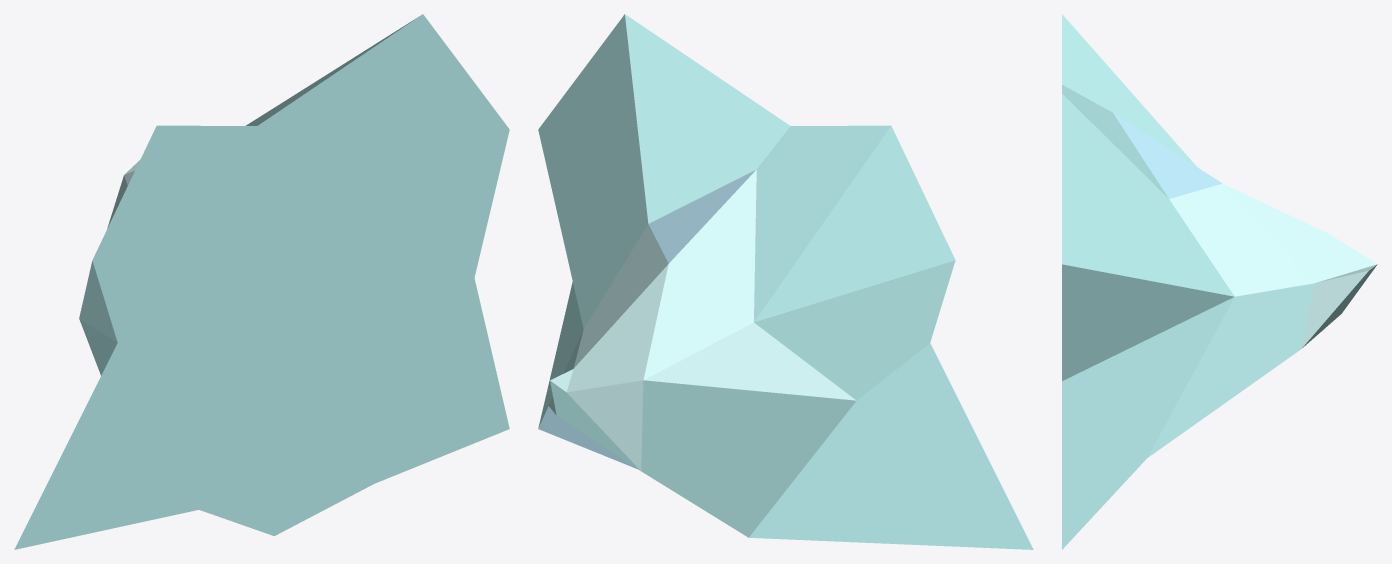
File: winter_cube_3.fbx
The picture shows the model from 3 angles, left to right: view 1: azimuth 30°, elevation 25°; view 2: azimuth 150°, elevation 25°; view 3: azimuth 270°, elevation 25°; orthographic projection. The views are drawn at different scales.
Visible parts, largest first — view 1: winter_cube_3; view 2: winter_cube_3; view 3: winter_cube_3.
Boxes of the visible parts, left/top/right/bottom form: winter_cube_3: left=14, top=14, right=509, bottom=549; winter_cube_3: left=538, top=14, right=1033, bottom=549; winter_cube_3: left=1062, top=14, right=1377, bottom=549.
Size of the model in its own units: 517 by 485 by 299.
